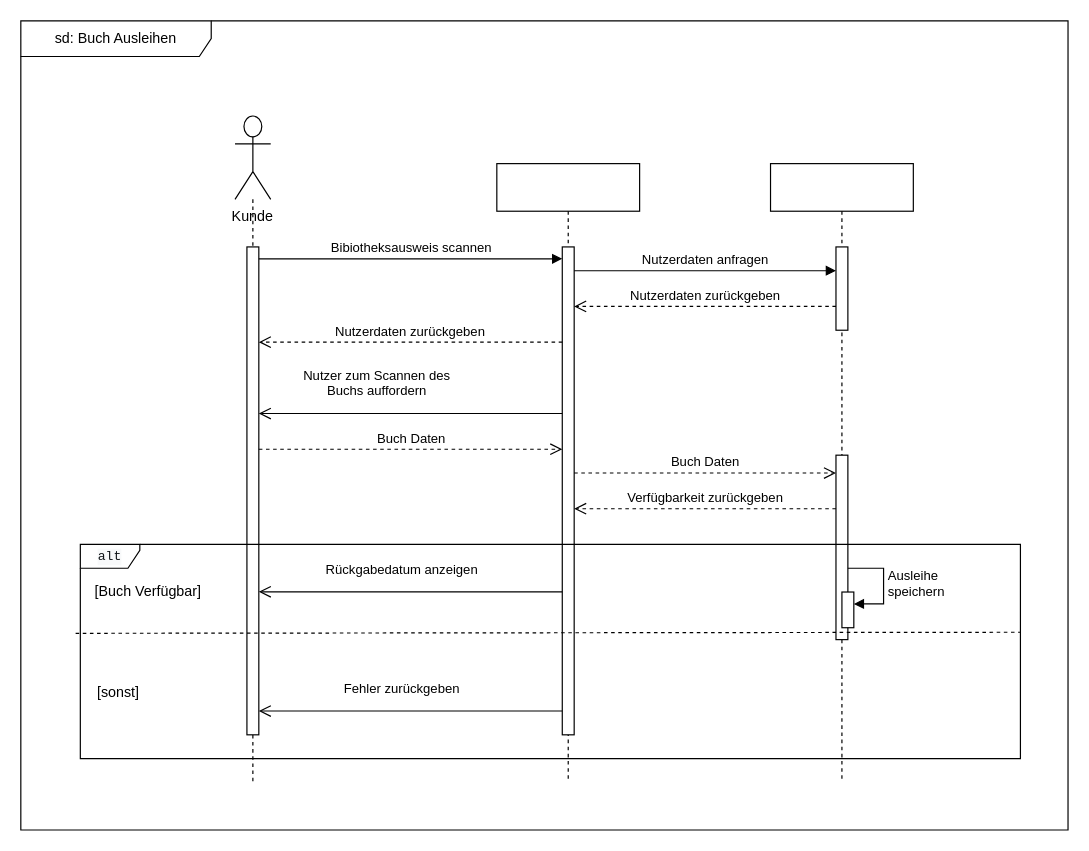
This 1089x851 diagram has some shape labels left out. Each missing label, with the box of its shape:
: Bibliothek-Server: (769, 162, 913, 782)
:Terminal: (496, 162, 640, 782)
